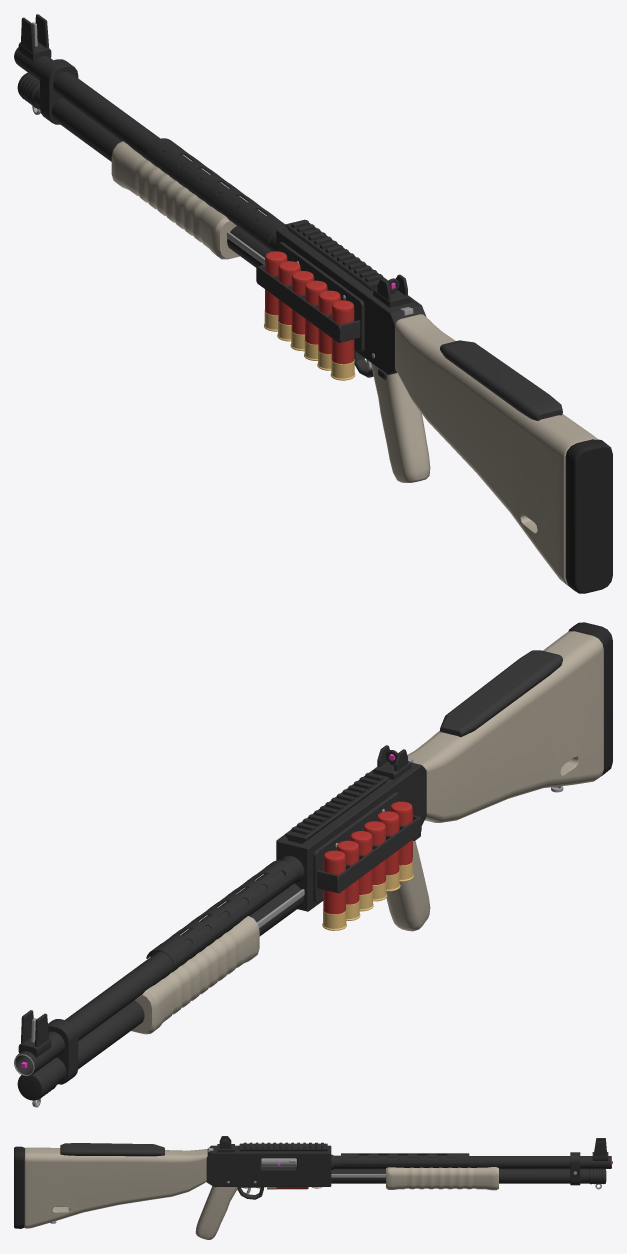
3 views of the same model, one above another, from view 1: azimuth 30°, elevation 25°; view 2: azimuth 150°, elevation 25°; view 3: azimuth 270°, elevation 25° (orthographic). The views are drawn at different scales.
Visible parts, largest first — view 1: Body_Accent, Body_Metal, Body_Polymer, Body_Rubber, Pump, Body_ShellRed, Body_Brass; view 2: Body_Metal, Body_Accent, Body_Polymer, Pump, Body_ShellRed, Body_Rubber, Body_Brass; view 3: Body_Metal, Body_Accent, Pump, Body_Polymer, Body_Rubber, Body_Steel.
Part boxes in pixels (x1,y1,x2,y2): Body_Accent: [371, 314, 598, 586]; Body_Metal: [14, 14, 426, 379]; Body_Polymer: [256, 242, 562, 420]; Body_Rubber: [565, 439, 612, 593]; Pump: [111, 141, 264, 264]; Body_ShellRed: [265, 251, 354, 364]; Body_Brass: [264, 310, 355, 380]; Body_Metal: [15, 745, 426, 1100]; Body_Accent: [386, 631, 603, 931]; Body_Polymer: [313, 650, 562, 902]; Pump: [131, 889, 304, 1034]; Body_ShellRed: [323, 801, 412, 914]; Body_Rubber: [568, 622, 612, 775]; Body_Brass: [322, 860, 413, 930]; Body_Metal: [206, 1136, 611, 1186]; Body_Accent: [24, 1147, 237, 1239]; Pump: [331, 1167, 498, 1190]; Body_Polymer: [60, 1143, 263, 1199]; Body_Rubber: [14, 1146, 24, 1228]; Body_Steel: [50, 1147, 611, 1223].
Bounding box in the file's own units: 0.0648 × 0.1859 × 1.01.
